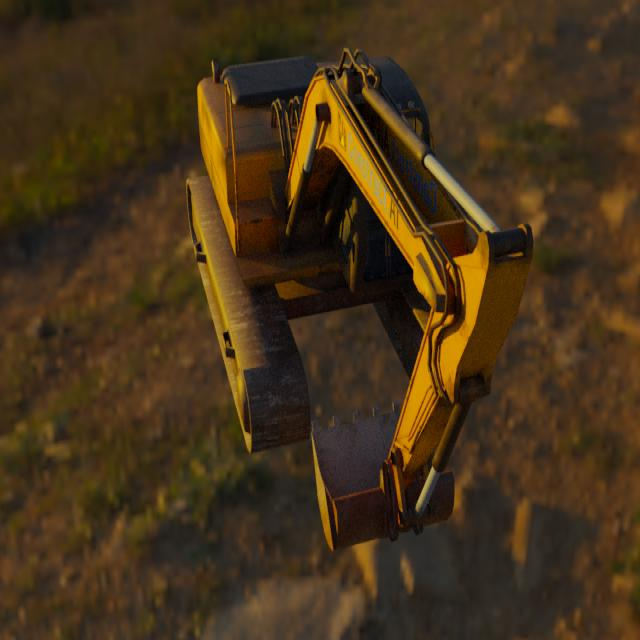excavator: (186, 47, 534, 550)
